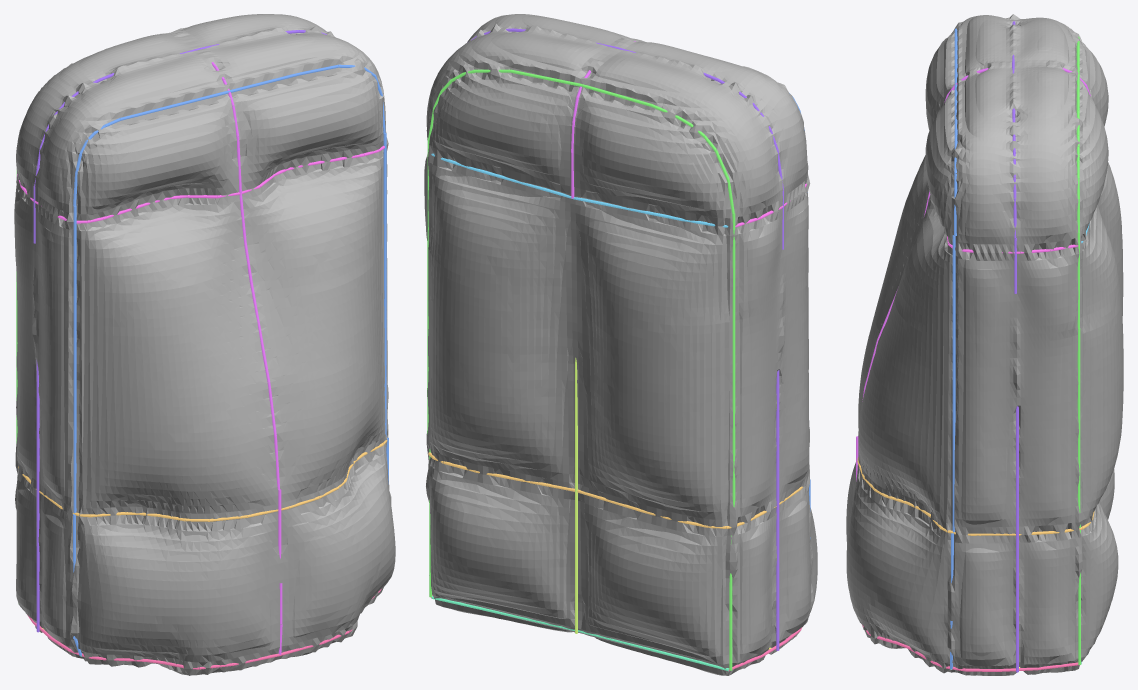
3 renders of one model, left to right at view 1: azimuth 30°, elevation 25°; view 2: azimuth 150°, elevation 25°; view 3: azimuth 270°, elevation 25°, orthographic. The views are drawn at different scales.
Bounding box in the file's own units: 0.5136 × 0.8262 × 0.3758.
